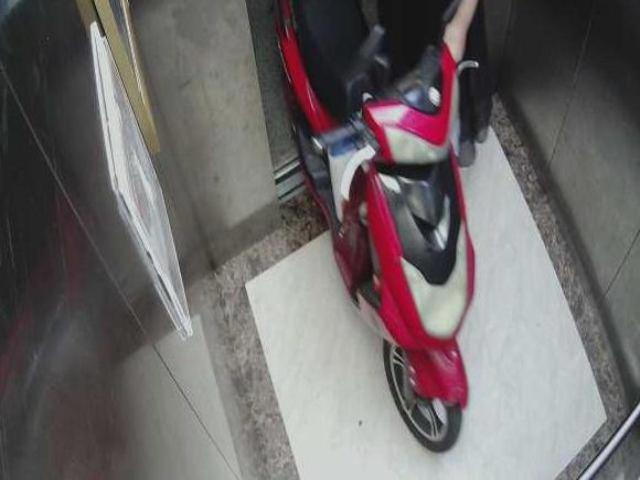emotor: (279, 8, 482, 450)
